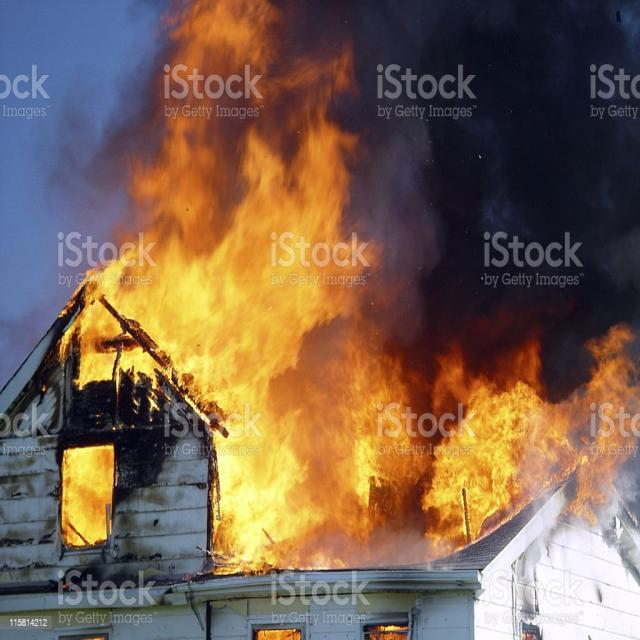Fire: (128, 2, 345, 244), (67, 250, 370, 393), (436, 344, 638, 542), (214, 396, 428, 570), (63, 448, 114, 550)
Smoke: (374, 1, 636, 314)
